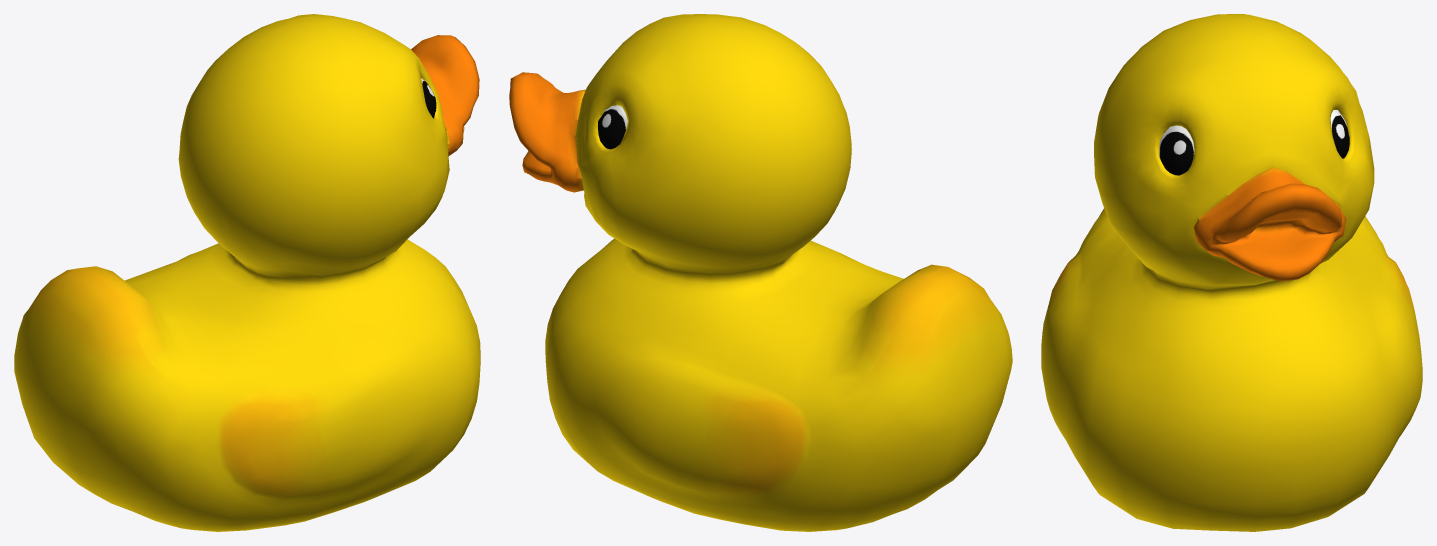
File: Duck-vp-9-vt-9-vn-9.glb
3 views of the same model, side by side, from view 1: azimuth 30°, elevation 25°; view 2: azimuth 150°, elevation 25°; view 3: azimuth 270°, elevation 25° (orthographic). The views are drawn at different scales.
Bounding box in the file's own units: 1.65 × 1.54 × 1.15.
Materials: 1 (1 with a texture image).
